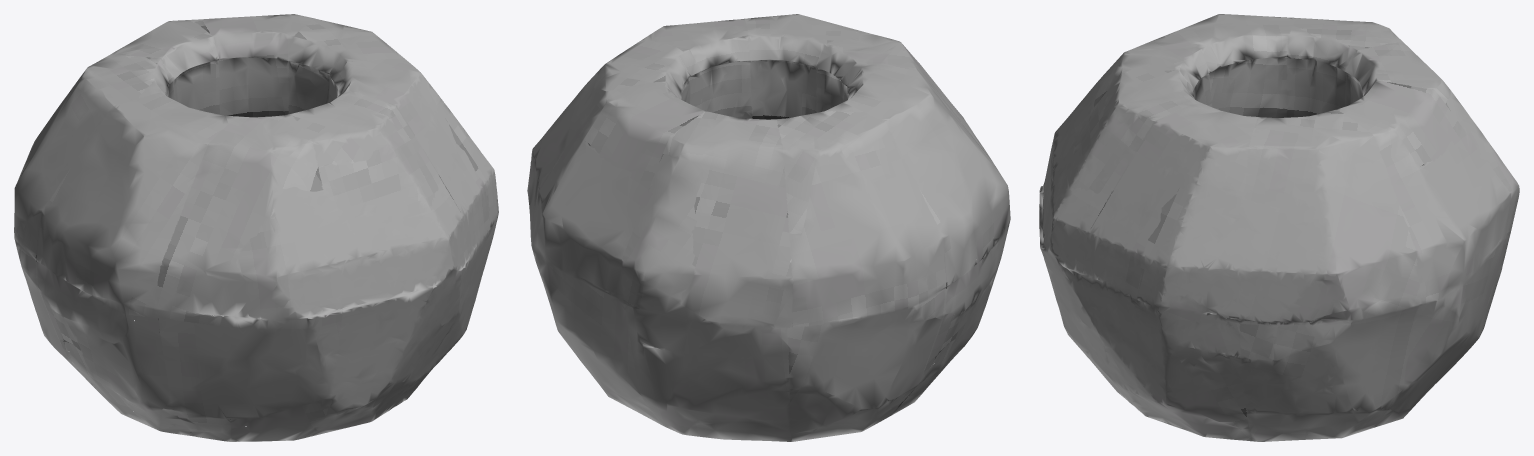
Rendered from xs_bead.glb.
The picture shows the model from 3 angles, left to right: view 1: azimuth 30°, elevation 25°; view 2: azimuth 150°, elevation 25°; view 3: azimuth 270°, elevation 25°; orthographic projection.
Parts seen in each view (by area): view 1: tripo_node_3edb988f-ef38-47e9-b610-775f5c51341f; view 2: tripo_node_3edb988f-ef38-47e9-b610-775f5c51341f; view 3: tripo_node_3edb988f-ef38-47e9-b610-775f5c51341f.
Boxes of the visible parts, bbox=[...] form: tripo_node_3edb988f-ef38-47e9-b610-775f5c51341f: bbox=[14, 14, 498, 441]; tripo_node_3edb988f-ef38-47e9-b610-775f5c51341f: bbox=[527, 14, 1010, 441]; tripo_node_3edb988f-ef38-47e9-b610-775f5c51341f: bbox=[1039, 14, 1519, 441].
Bounding box in the file's own units: 0.9676 × 0.6834 × 0.9963.
1 material, 1 textured.
